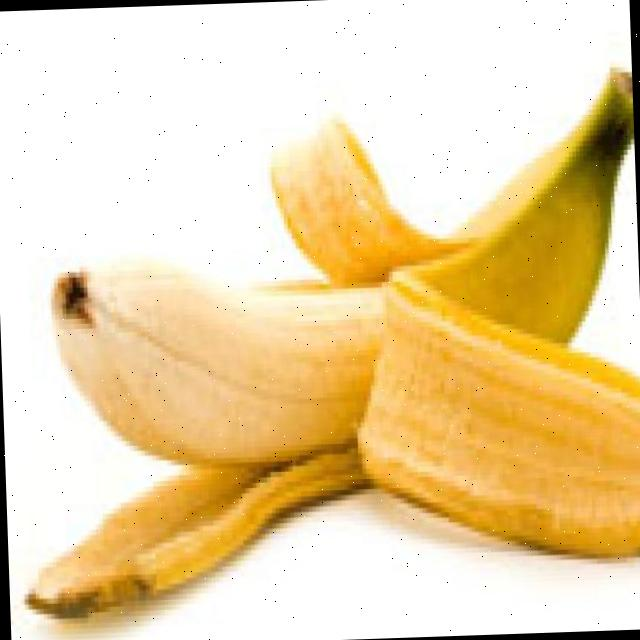Pisang: (5, 64, 640, 618)
